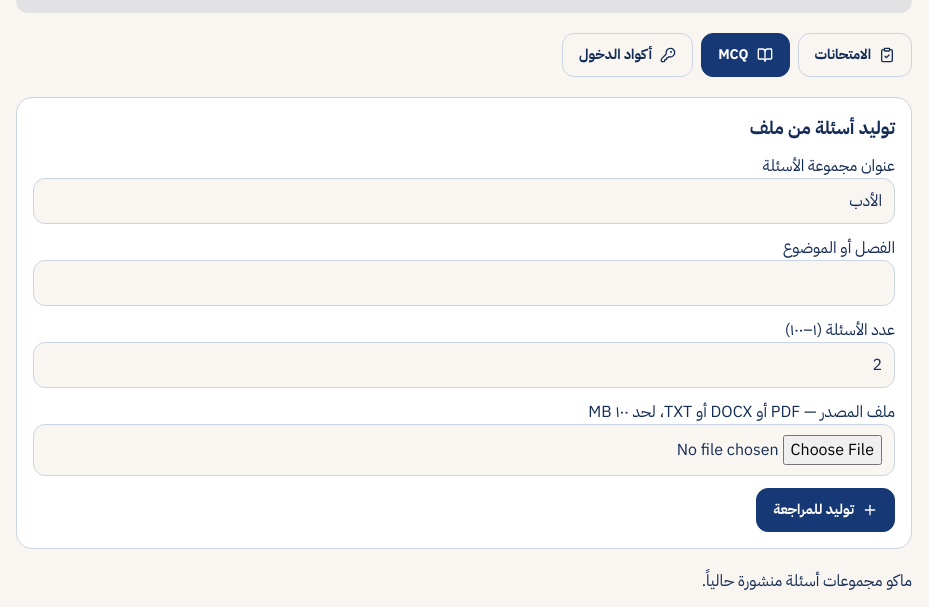
Test: literature course › does not let a short generation result silently replace the requested count
This screenshot has width=929, height=607.
Earlier steps of the test are not shown.
(page scrolled)
Click the button "توليد للمراجعة" at (826, 510), box [756,488,895,532]
(page scrolled)
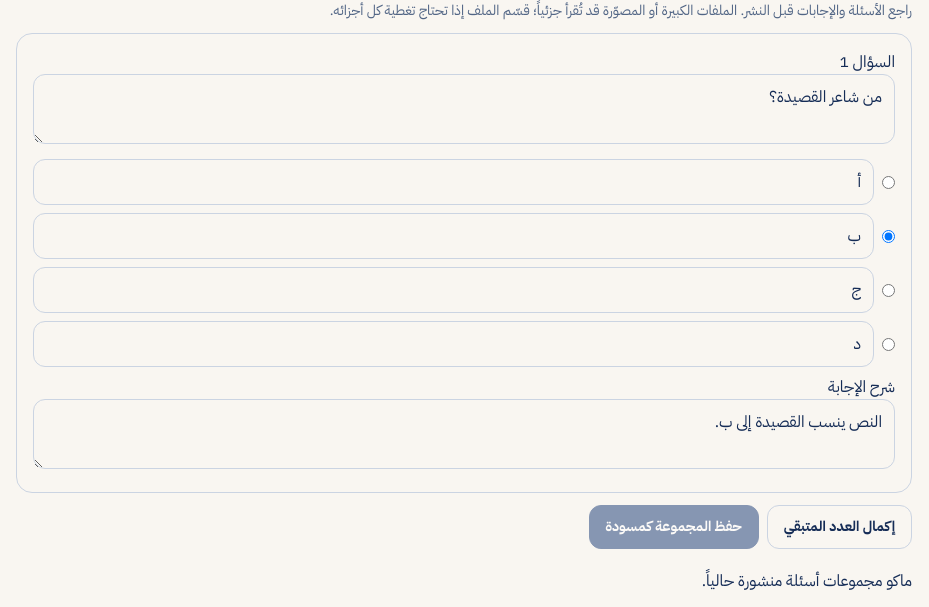
Expected: the button "حفظ المجموعة كمسودة" is disabled, [588,505,759,549]
Expected: the button "إكمال العدد المتبقي" is enabled, [767,505,912,549]
